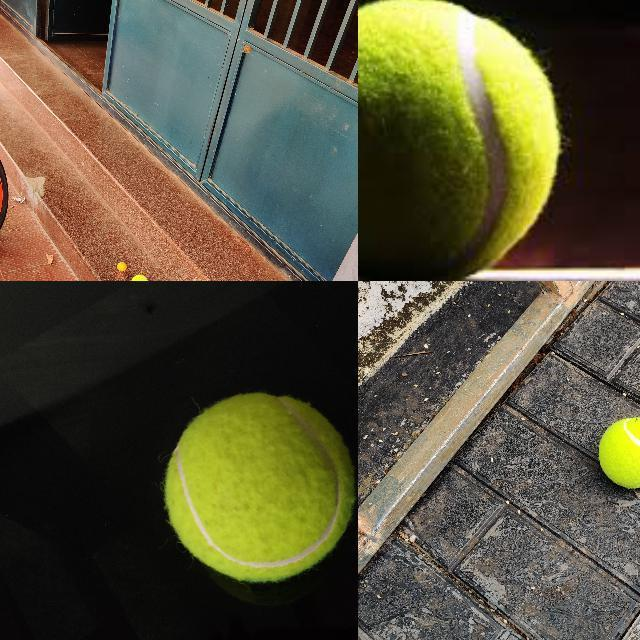tennis-ball: (358, 0, 563, 280), (164, 391, 356, 583), (596, 416, 639, 489), (130, 274, 148, 280)
